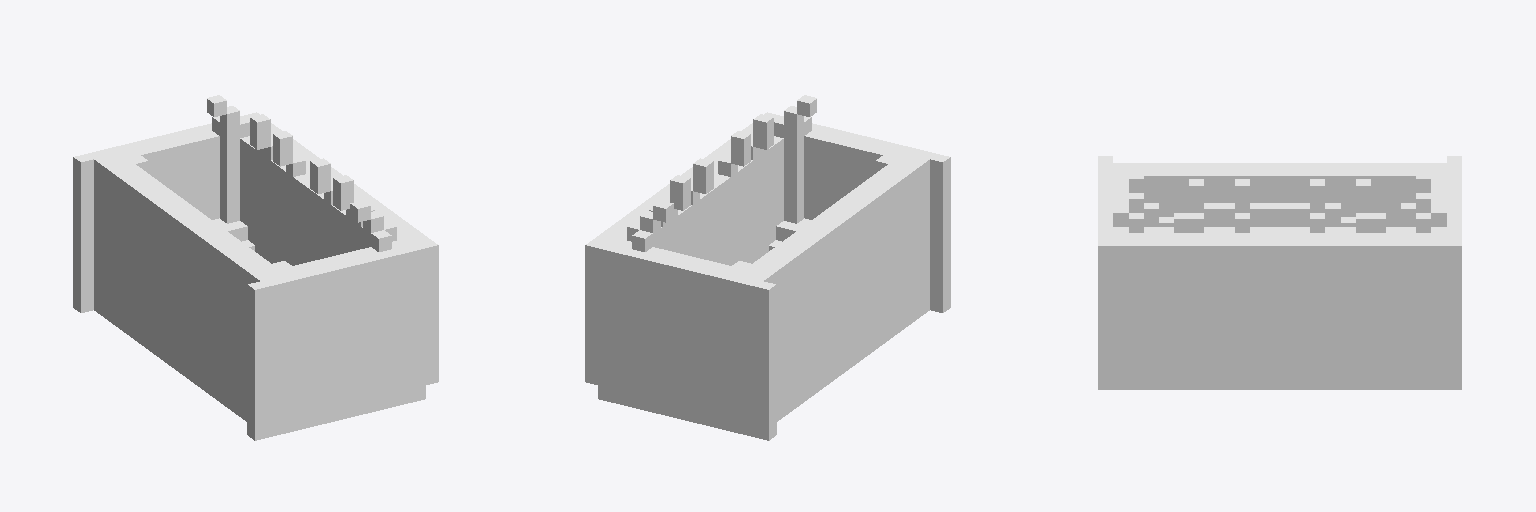
Rendered from Stenka1-9.obj.
The picture shows the model from 3 angles: view 1: azimuth 30°, elevation 25°; view 2: azimuth 150°, elevation 25°; view 3: azimuth 270°, elevation 25°; orthographic projection.
Parts seen in each view (by area): view 1: object 1; view 2: object 1; view 3: object 1.
Boxes of the visible parts, x1,y1,x2,y2 form: object 1: [73, 95, 438, 440]; object 1: [585, 95, 950, 440]; object 1: [1098, 156, 1461, 389].
Size of the model in its own units: 1.4 by 1.4 by 2.4.